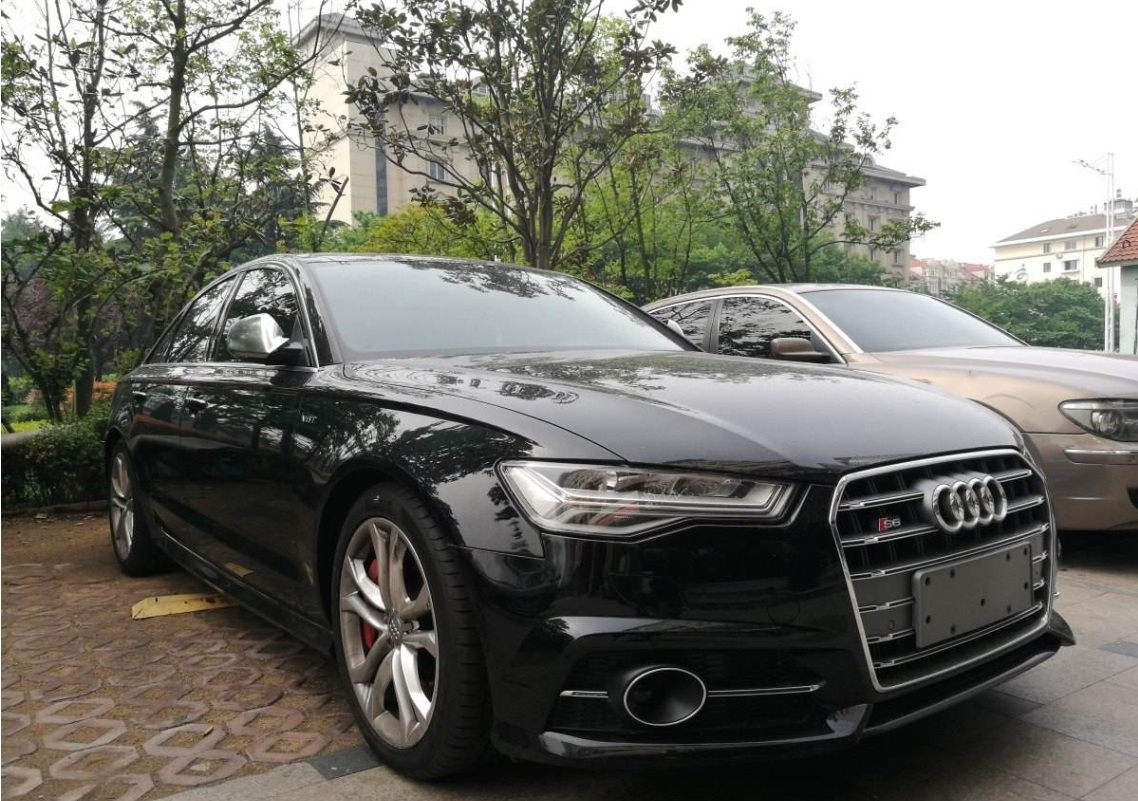family sedan: (113, 228, 1071, 764)
